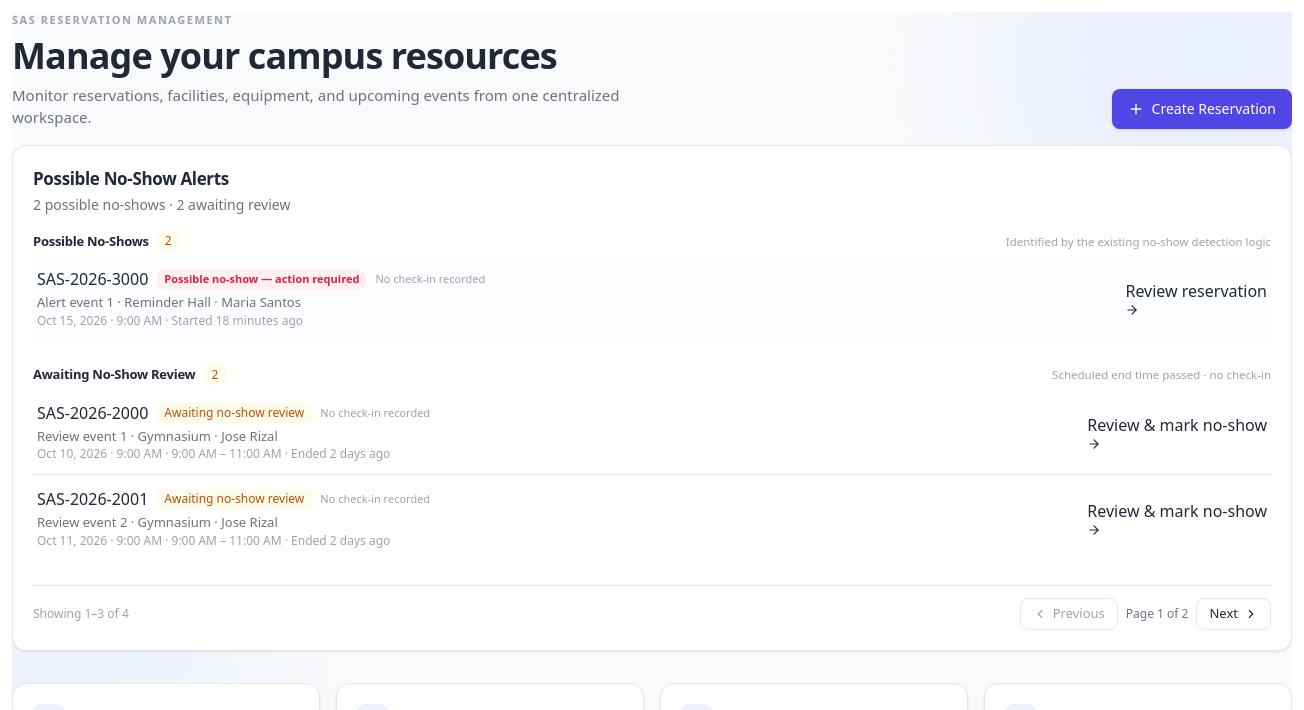
Test: DashboardPage possible no-show section › applies the three-row limit to each group on a mixed page
Check: the text "Page 1 of 2" is shown, box [1126,605,1188,623]
Check: the heading "Possible No-Shows" is shown, box [33,232,149,251]
Click the button "Next" at coordinates (1234, 614), box [1196,598,1271,630]
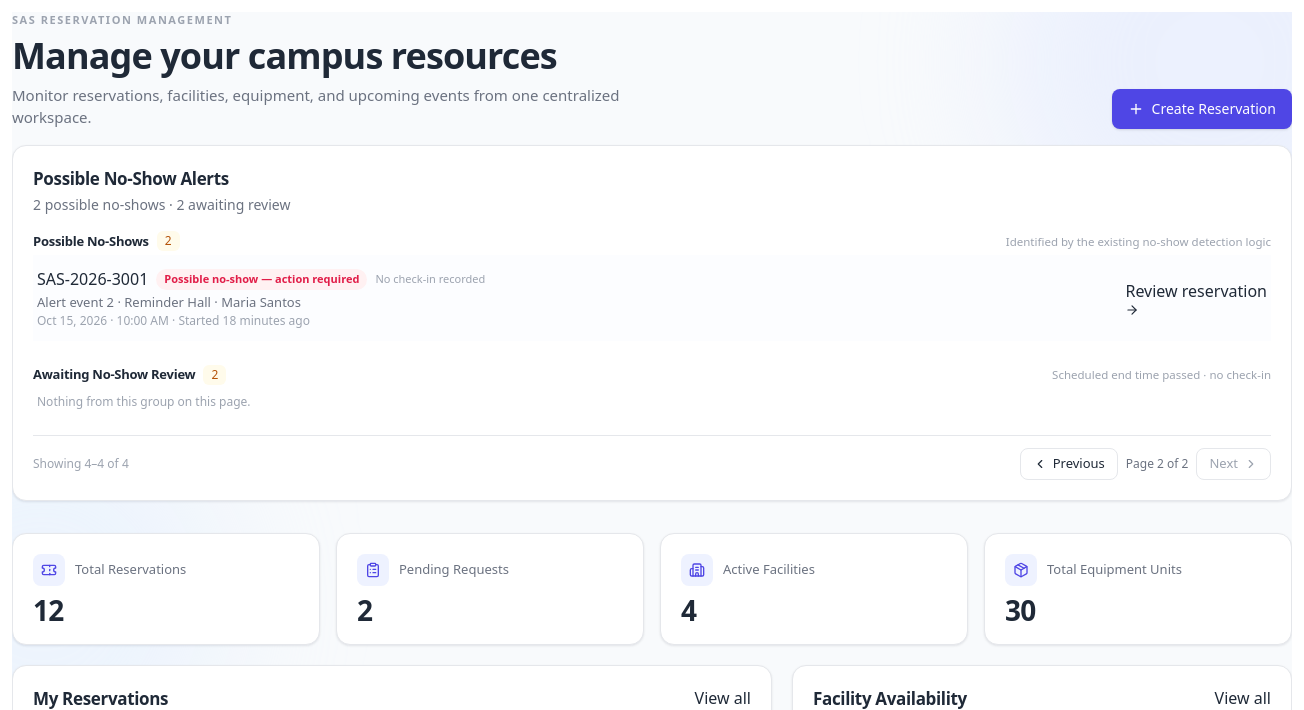
Check: the link "Review reservation" is shown, box [1126,279,1267,317]
Check: the text "Nothing from this group on this page." is shown, box [37,393,251,410]
